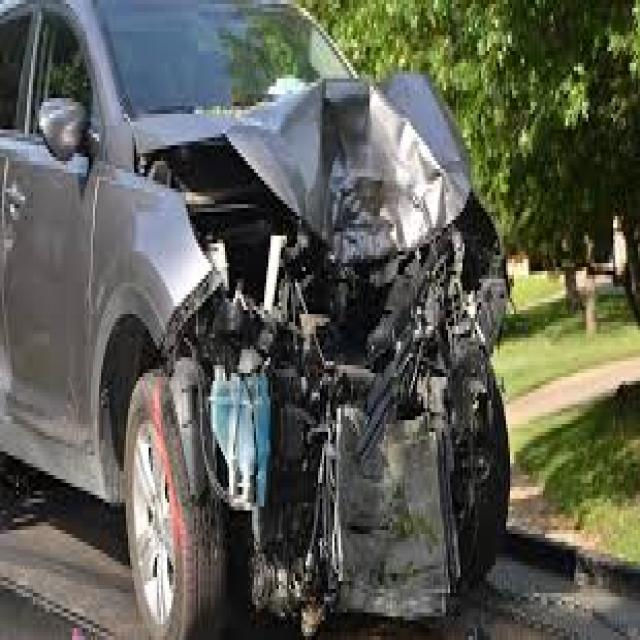accident: (65, 29, 517, 640)
